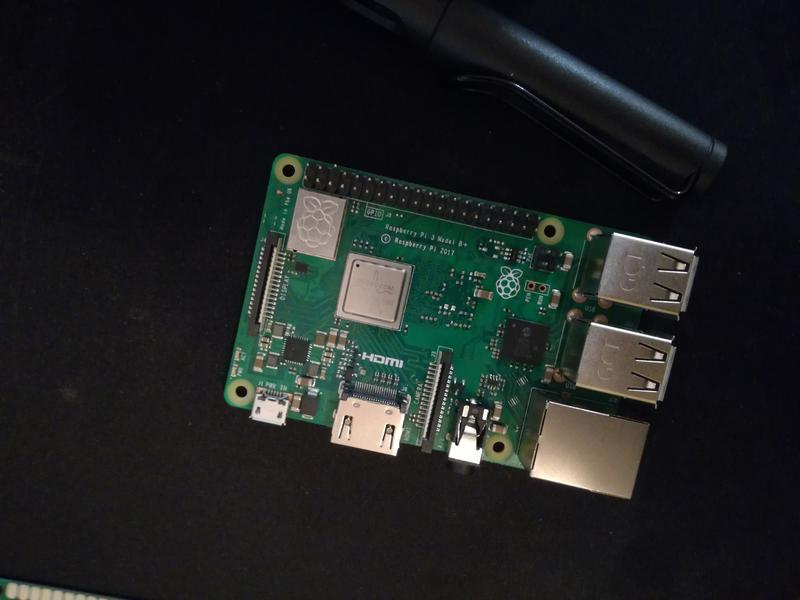Raspberry_Pi_3: (211, 146, 706, 508)
